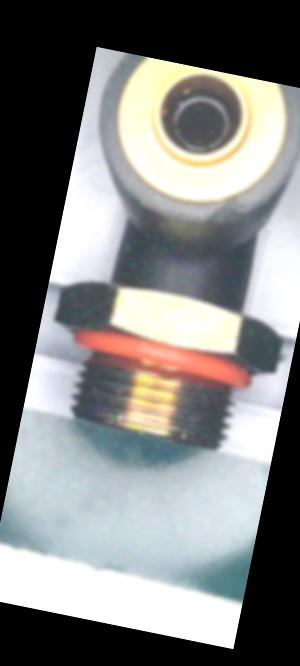bump: (194, 190, 254, 241)
joint line: (168, 252, 189, 296)
